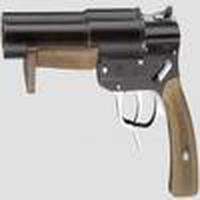gun: (1, 12, 200, 194)
